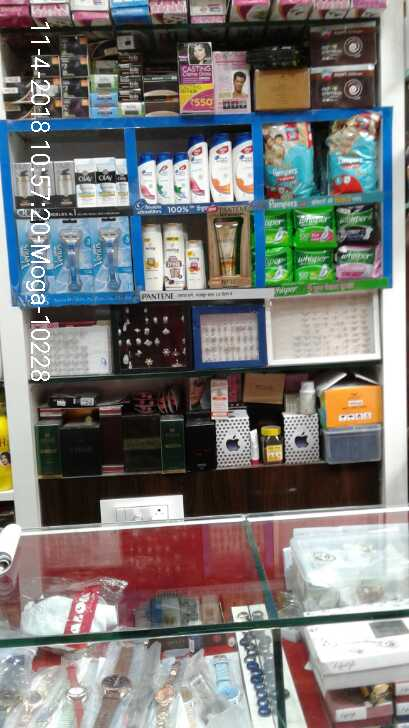venus: (52, 219, 91, 291), (96, 217, 129, 292)
